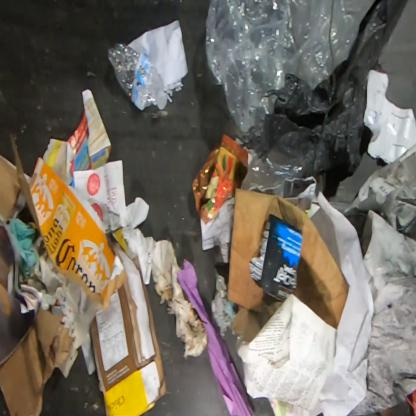cardboard: (0, 156, 77, 416), (227, 188, 349, 330), (28, 155, 128, 314), (90, 228, 168, 416)
rigid_plastic: (108, 43, 167, 112)
soft_plastic: (253, 1, 406, 197), (206, 1, 378, 134), (236, 142, 309, 196)
